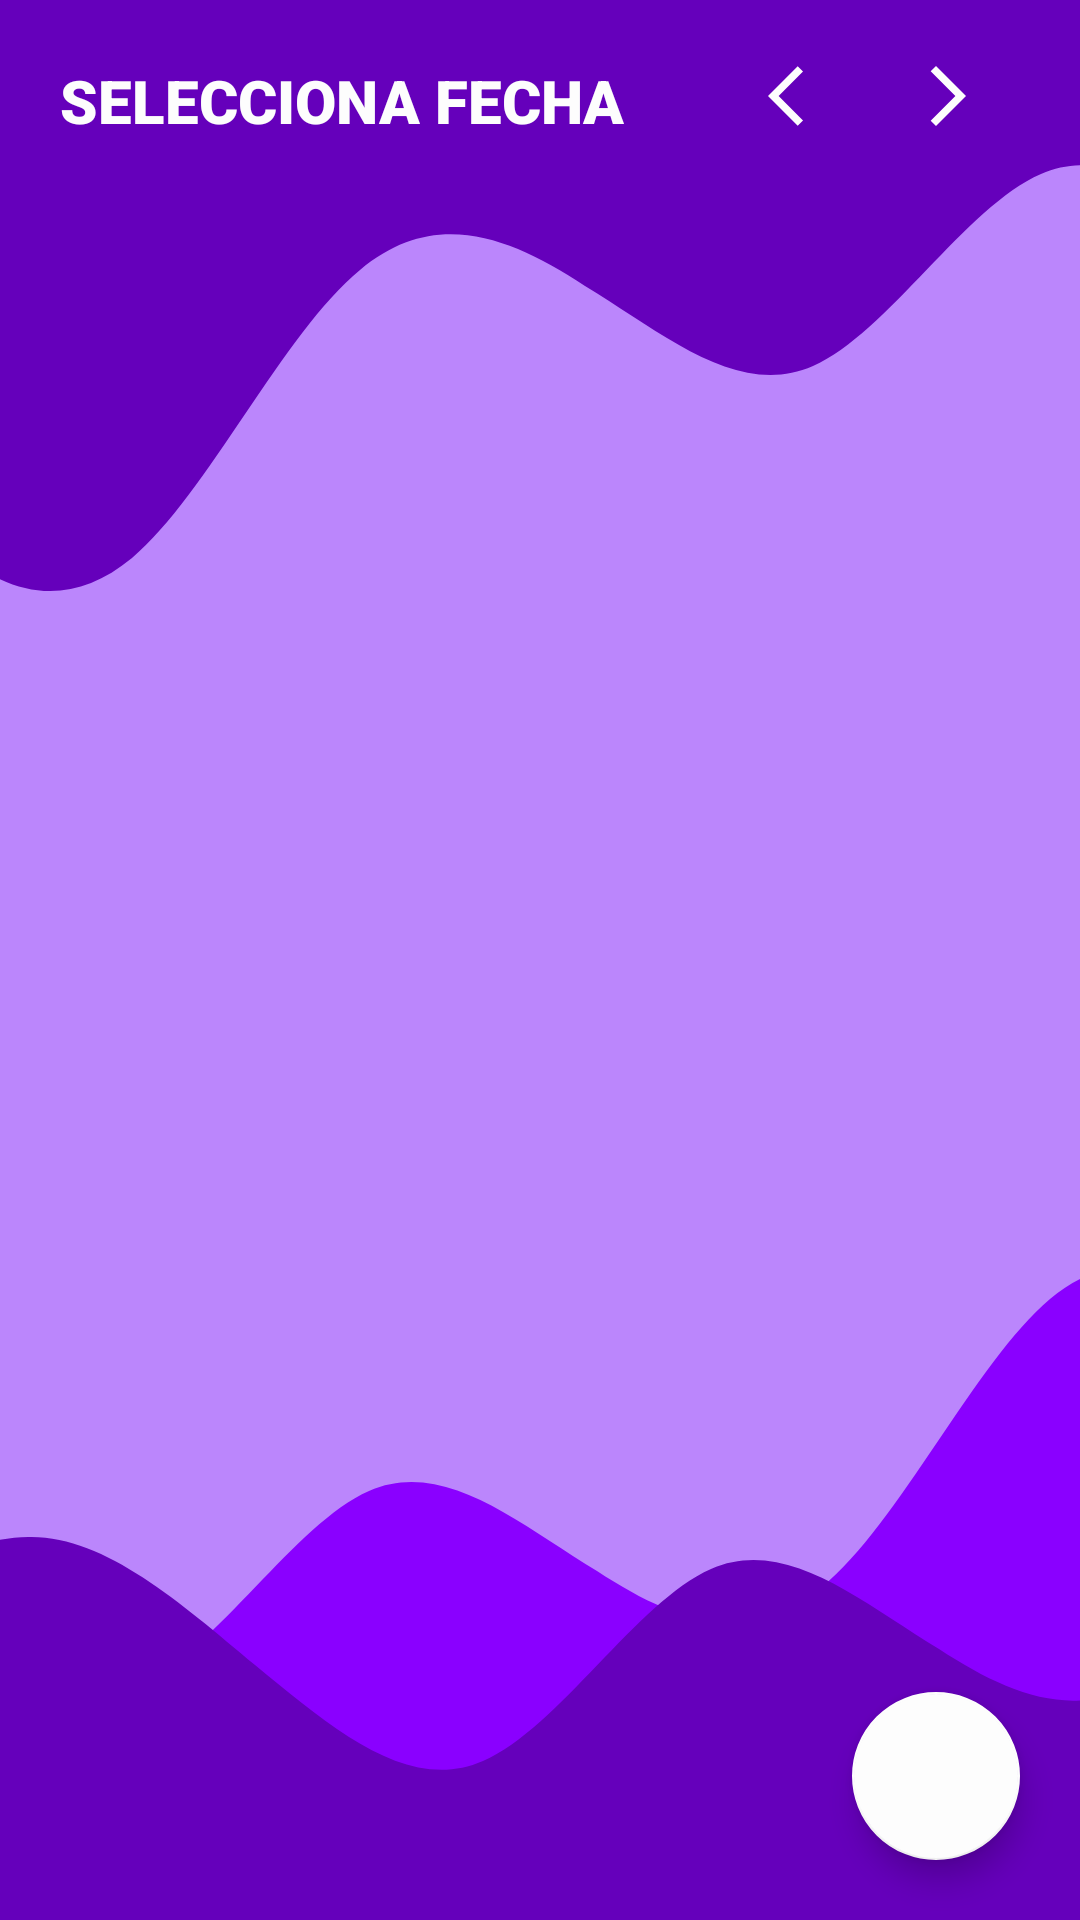

Icons on this 1080x1920 Android screen, each with its box as (x1, y1, x2, y2):
atras: (768, 66, 803, 126)
delante: (931, 66, 966, 126)
